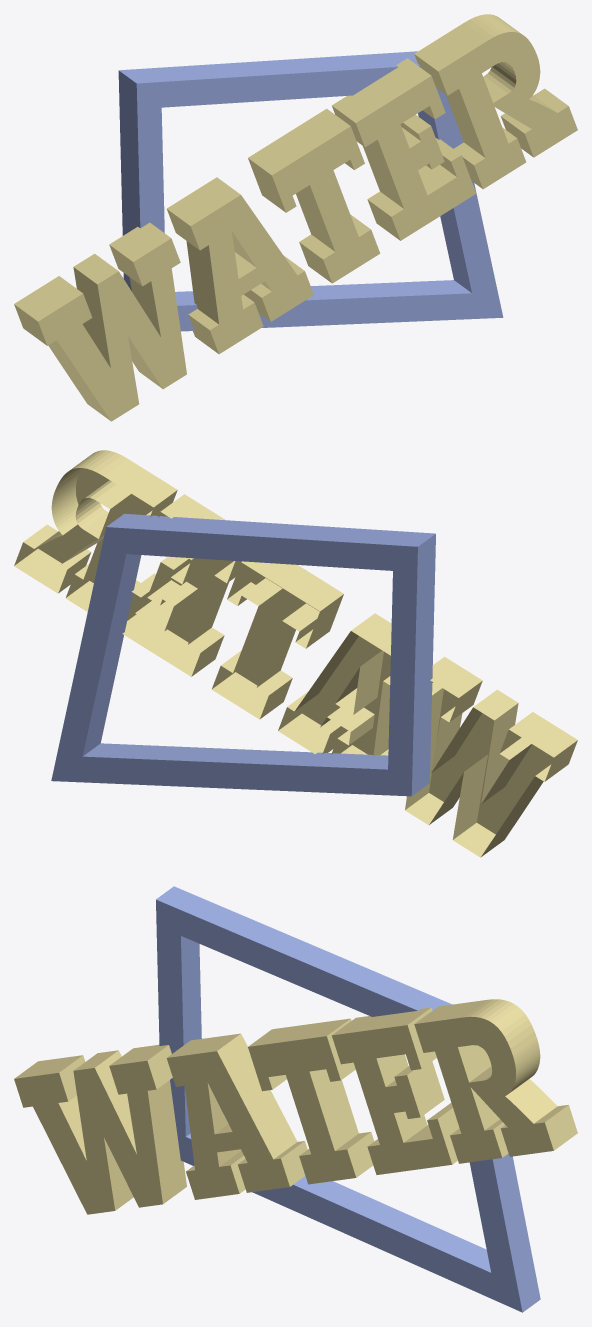
The model's file is Sign_water.fbx.
3 views of the same model, one above another, from view 1: azimuth 30°, elevation 25°; view 2: azimuth 150°, elevation 25°; view 3: azimuth 330°, elevation 25° (orthographic).
Parts seen in each view (by area): view 1: Sign_water; view 2: Sign_water; view 3: Sign_water.
Boxes of the visible parts, bbox=[...] form: Sign_water: bbox=[14, 14, 577, 421]; Sign_water: bbox=[14, 450, 577, 857]; Sign_water: bbox=[14, 886, 577, 1312].
Size of the model in its own units: 0.1271 by 0.9971 by 0.5713.
